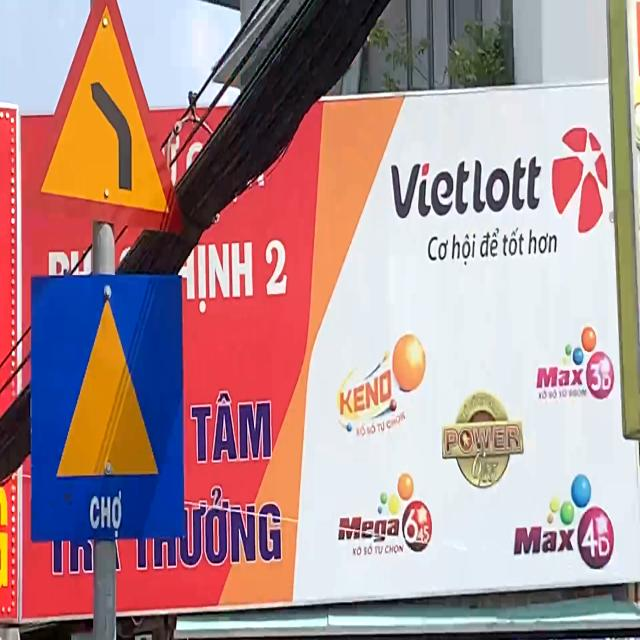W.201a: (27, 0, 195, 254)
